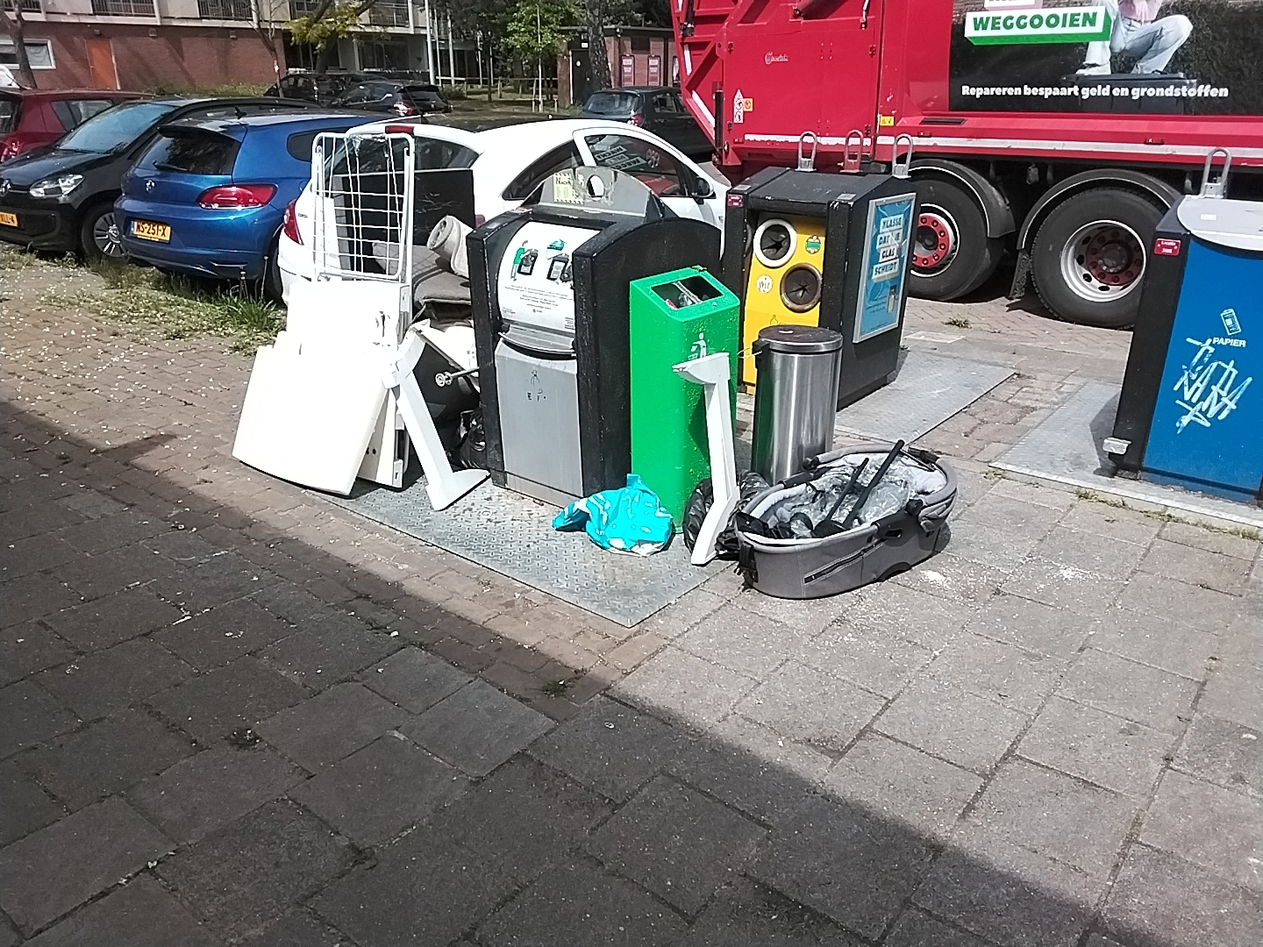Container: (478, 197, 633, 483), (720, 170, 922, 363), (1143, 176, 1263, 446)
Rest: (289, 115, 487, 515), (645, 263, 752, 549), (756, 461, 942, 585), (739, 316, 848, 436), (489, 510, 686, 564)
Voertuig: (119, 96, 297, 259), (11, 96, 173, 268)
